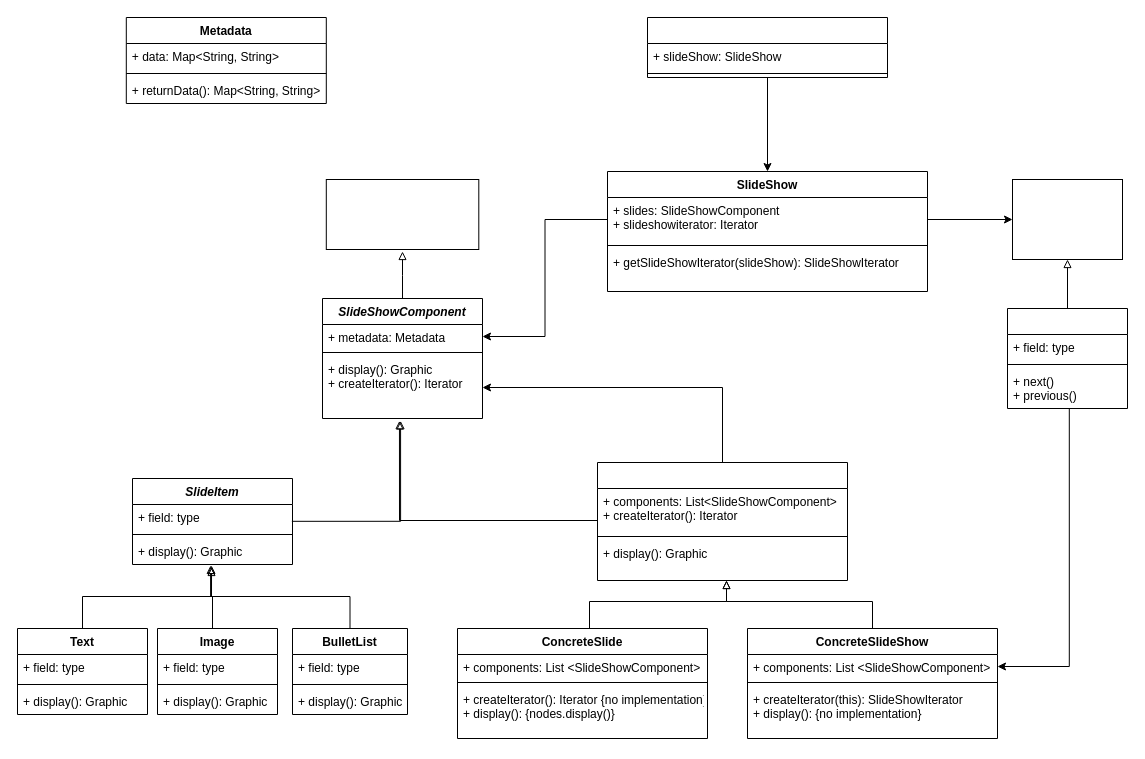
Image size: 1145x759. Some labels were removed from this diagram. Each missing label, with the box of its shape:
<<Interface>> Iterable + CreateIterator(): (325, 178, 479, 250)
<<Interface>> Iterator + next() + previous(): (1012, 178, 1122, 260)
Projector: (646, 16, 888, 78)
SlideShowComposite: (596, 462, 848, 580)
SlideShowIterator: (1006, 308, 1128, 408)
